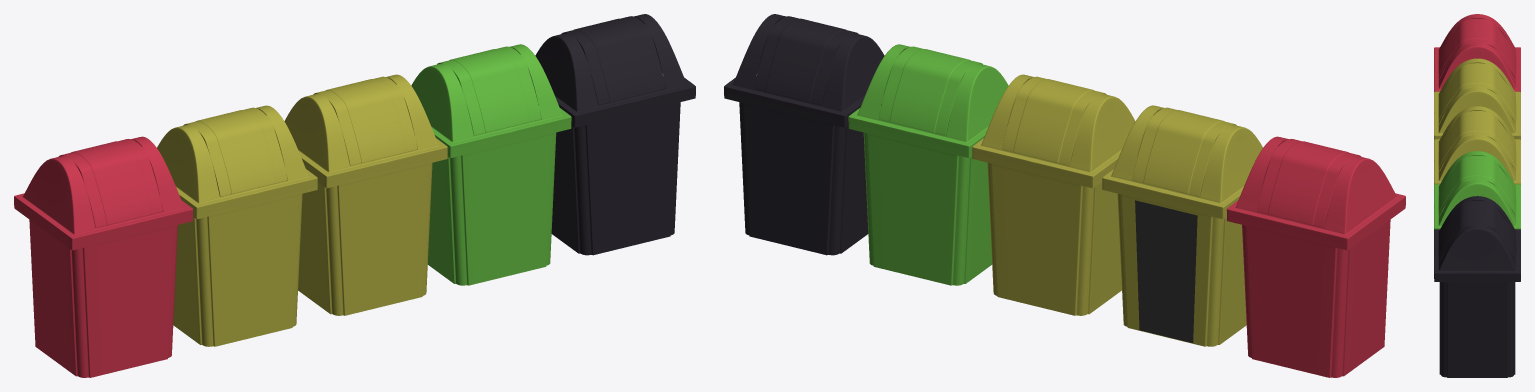
Rendered from trashbins.fbx.
The picture shows the model from 3 angles, left to right: view 1: azimuth 30°, elevation 25°; view 2: azimuth 150°, elevation 25°; view 3: azimuth 270°, elevation 25°; orthographic projection. The views are drawn at different scales.
Visible parts, largest first — view 1: Box001, Box002, Box002.001, Box004, Box003; view 2: Box001, Box002, Box002.001, Box004, Box003; view 3: Box004, Box002.001, Box003, Box002, Box001.
Boxes of the visible parts, x1,y1,x2,y2 form: Box001: (14, 136, 193, 377); Box002: (284, 74, 447, 315); Box002.001: (157, 105, 317, 346); Box004: (535, 14, 695, 255); Box003: (411, 44, 571, 285); Box001: (1226, 136, 1405, 377); Box002: (972, 74, 1135, 315); Box002.001: (1102, 105, 1262, 346); Box004: (724, 14, 884, 255); Box003: (848, 44, 1008, 285); Box004: (1434, 196, 1520, 377); Box002.001: (1434, 58, 1520, 139); Box003: (1434, 151, 1520, 229); Box002: (1434, 106, 1520, 184); Box001: (1434, 14, 1520, 91).
Size of the model in its own units: 404 by 124 by 65.63.
